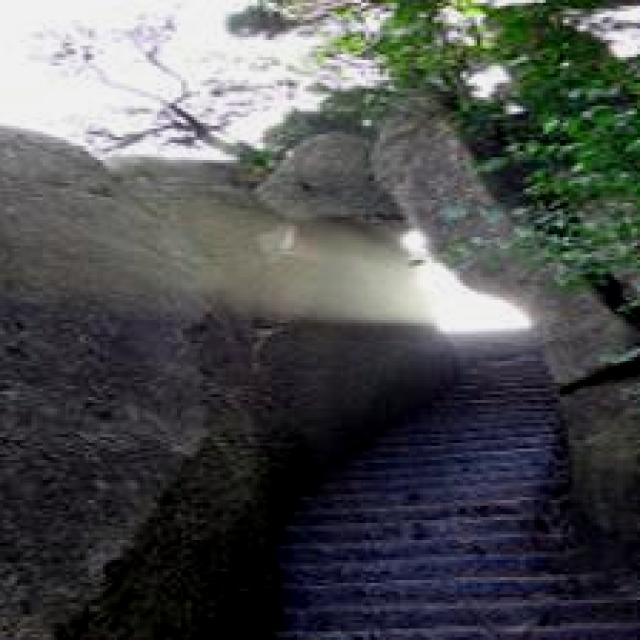upstair: (281, 461, 612, 635)
